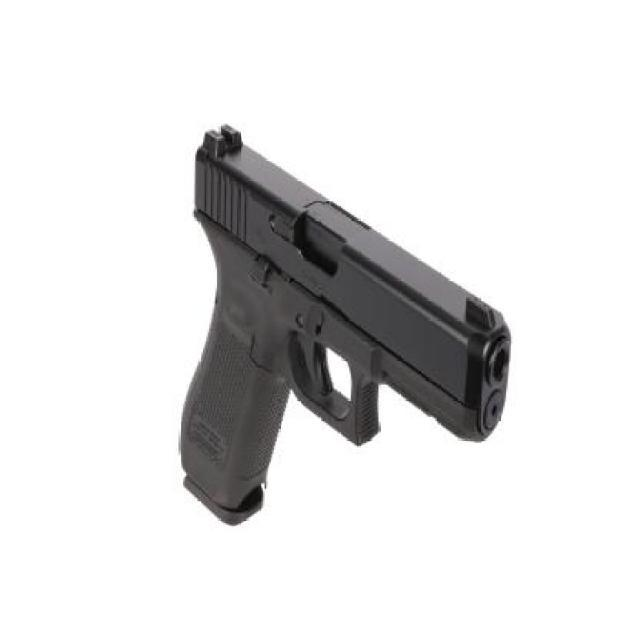Pistol: (177, 121, 513, 526)
